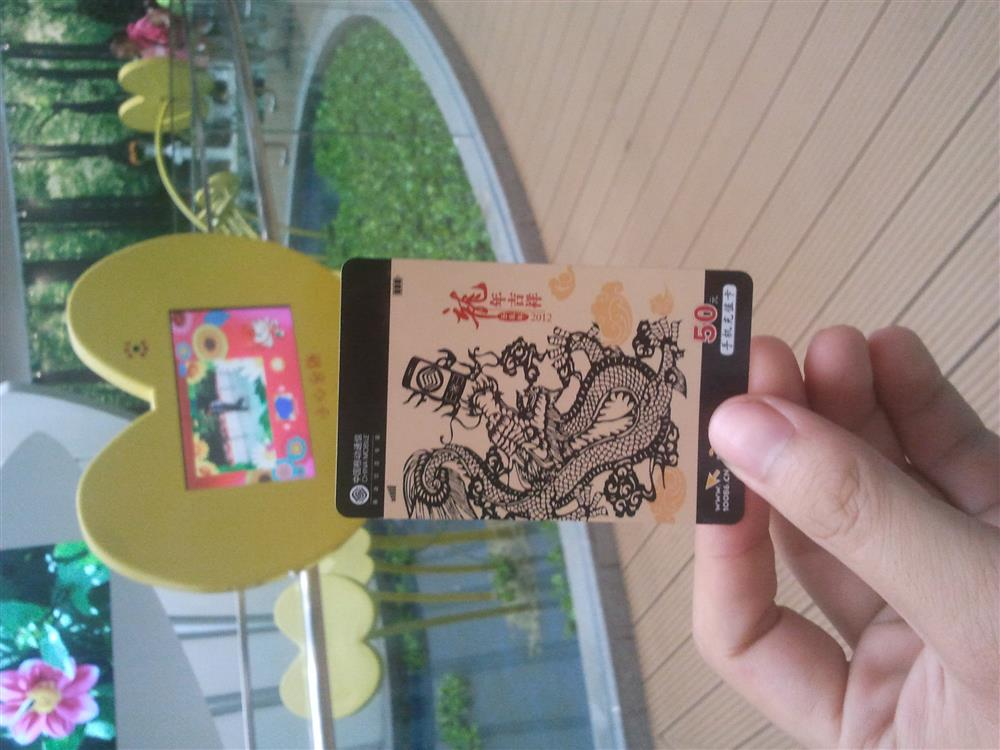china_mobile_card: (322, 224, 750, 531)
